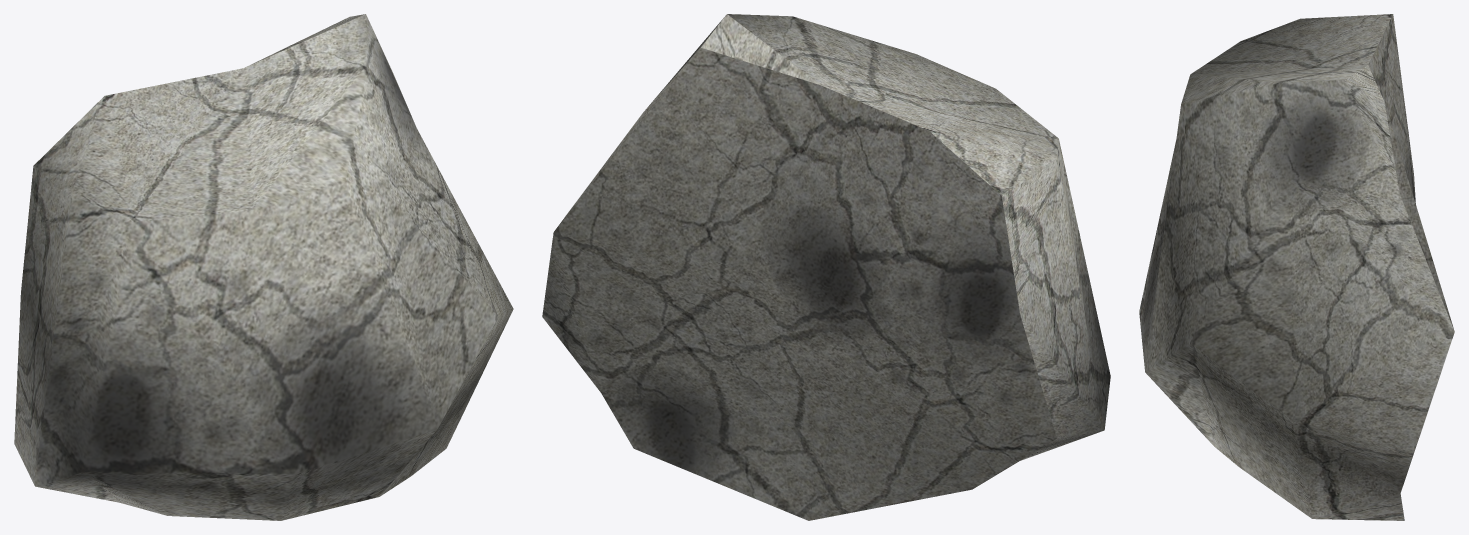
Rendered from BrokenAsteroid.FBX.
The picture shows the model from 3 angles, left to right: view 1: azimuth 30°, elevation 25°; view 2: azimuth 150°, elevation 25°; view 3: azimuth 270°, elevation 25°; orthographic projection. The views are drawn at different scales.
Parts seen in each view (by area): view 1: pSphere1; view 2: pSphere1; view 3: pSphere1.
Part boxes in pixels (x1,y1,x2,y2): pSphere1: [14, 14, 513, 520]; pSphere1: [542, 14, 1110, 520]; pSphere1: [1139, 14, 1454, 520].
Bounding box in the file's own units: 895 × 509 × 810.
1 material, 1 textured.
